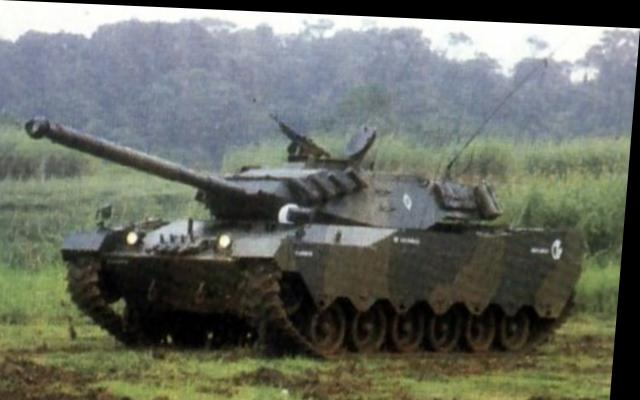tank: (67, 105, 596, 360)
